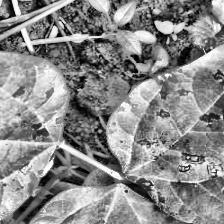ALS: (101, 36, 224, 224), (0, 40, 67, 223), (2, 187, 201, 224)
